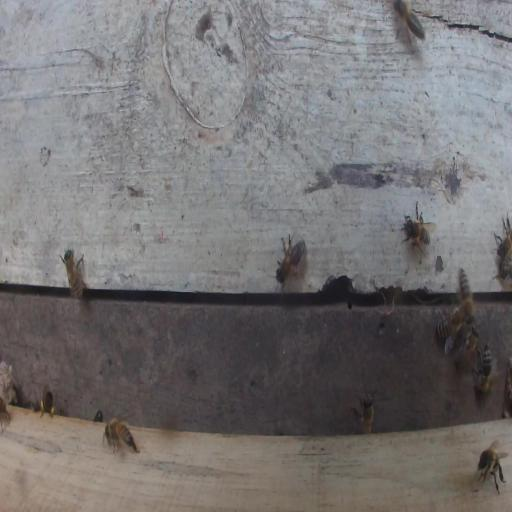nonpollenbee: (401, 199, 435, 256), (392, 2, 427, 53), (275, 234, 307, 288), (476, 439, 507, 494), (59, 247, 87, 300), (102, 417, 138, 454), (437, 305, 469, 340), (472, 342, 492, 395), (351, 392, 376, 434), (459, 325, 479, 369), (459, 267, 475, 322), (0, 396, 11, 431), (93, 410, 103, 422)
pollenbee: (40, 383, 58, 419)
